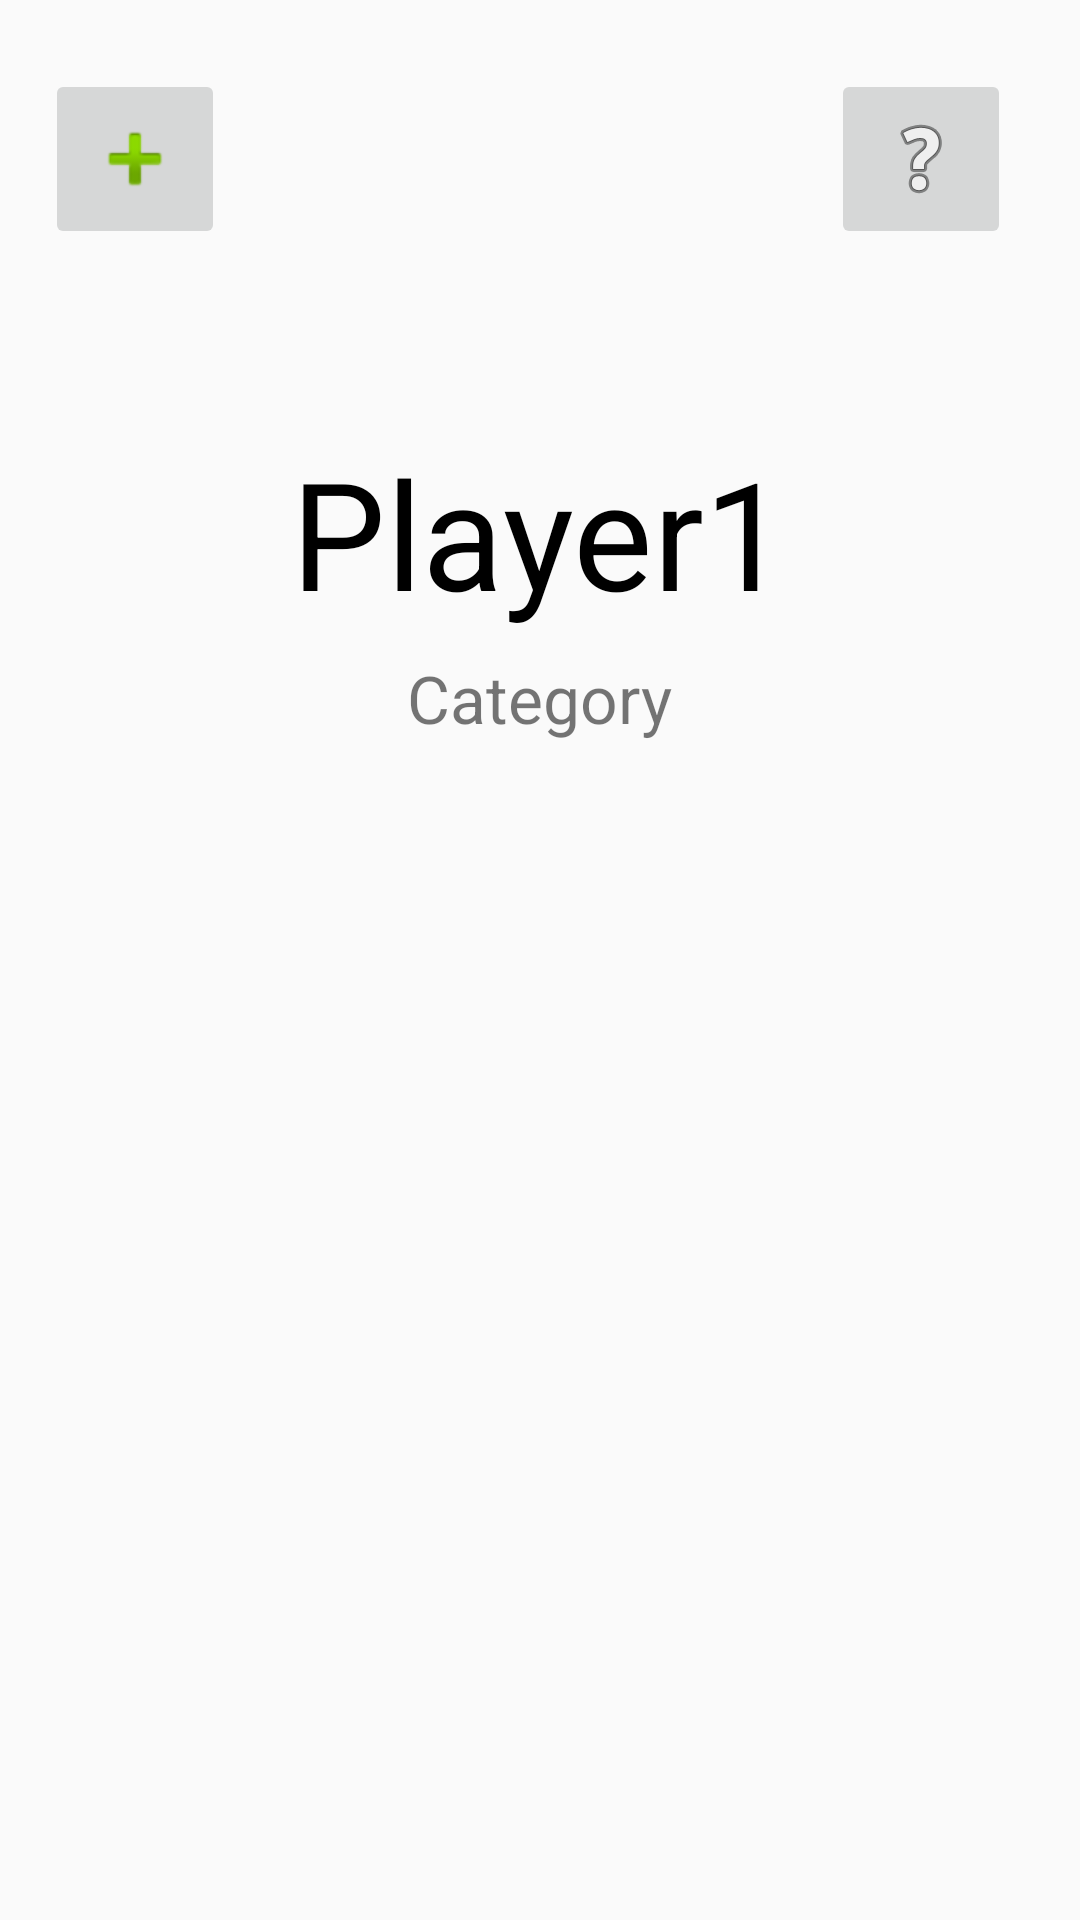

Locate icon controls on the screen. Image size 1080px x 1920px, boxes as (x1, y1, x2, y2).
add: (57, 87, 213, 231)
help: (843, 87, 999, 231)
